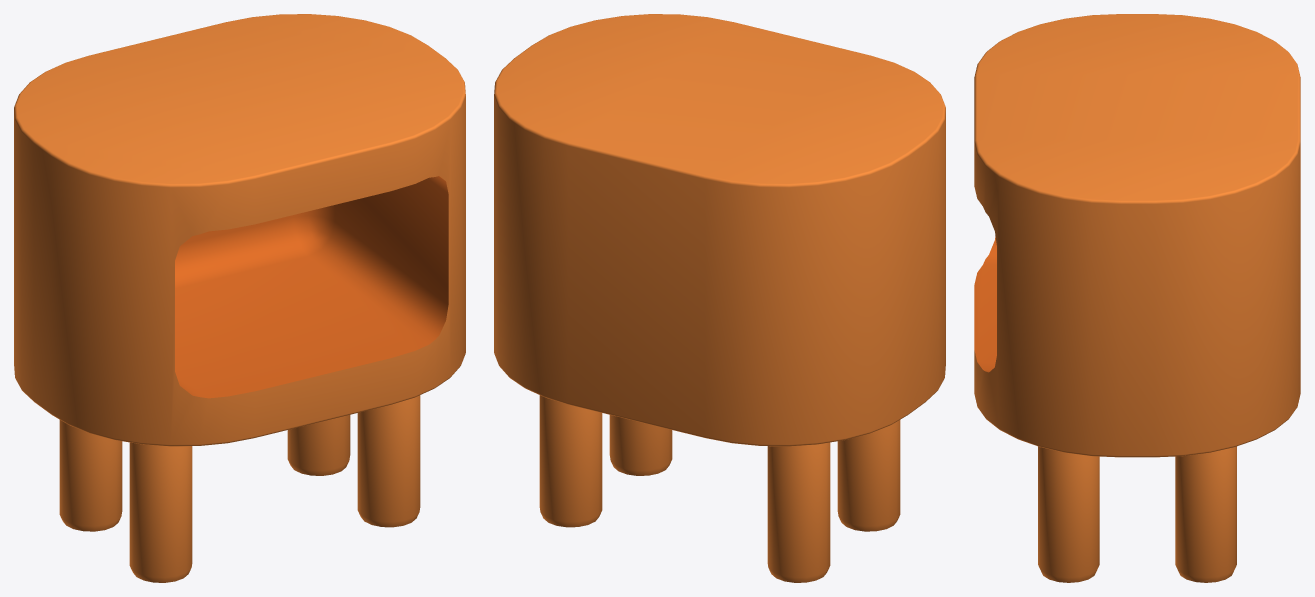
The model's file is criado_capsula_nicho_laranja.glb.
3 views of the same model, side by side, from view 1: azimuth 30°, elevation 25°; view 2: azimuth 150°, elevation 25°; view 3: azimuth 270°, elevation 25° (orthographic). The views are drawn at different scales.
Visible parts, largest first — view 1: criado_capsula_nicho_laranja; view 2: criado_capsula_nicho_laranja; view 3: criado_capsula_nicho_laranja.
Boxes of the visible parts, x1,y1,x2,y2 form: criado_capsula_nicho_laranja: (14, 14, 465, 582); criado_capsula_nicho_laranja: (494, 14, 945, 582); criado_capsula_nicho_laranja: (974, 14, 1300, 582).
Bounding box in the file's own units: 0.52 × 0.53 × 0.38.
1 material, 1 textured.
